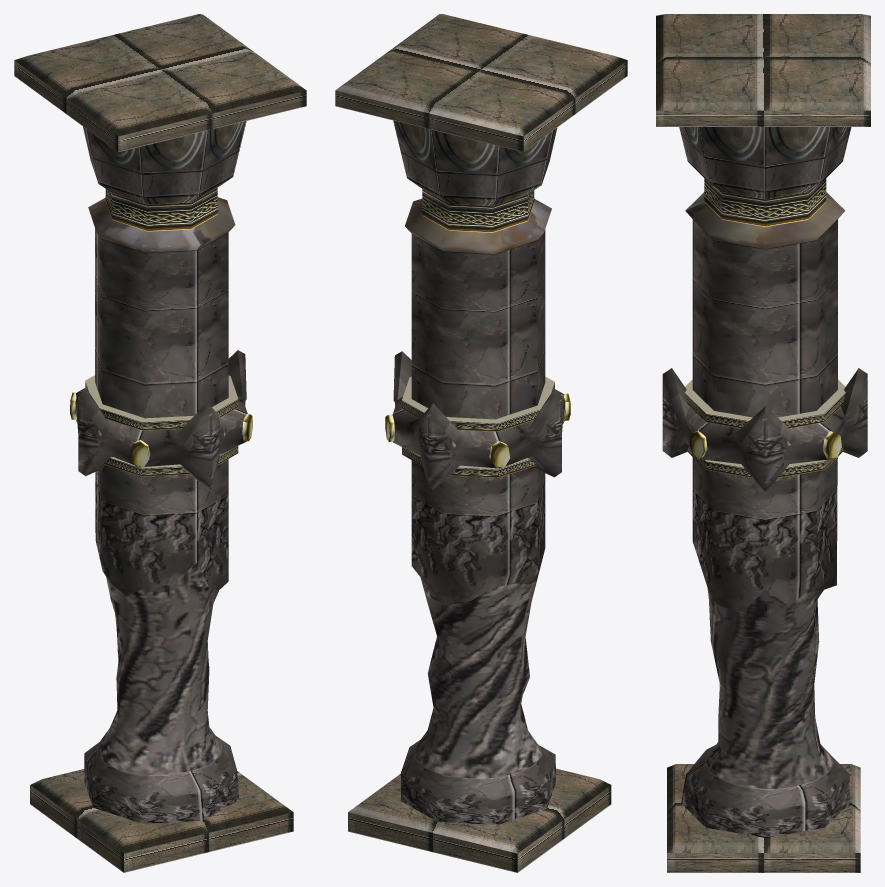
File: INST_SM_COLUMNA.obj
3 renders of one model, left to right at view 1: azimuth 30°, elevation 25°; view 2: azimuth 150°, elevation 25°; view 3: azimuth 270°, elevation 25°, orthographic. The views are drawn at different scales.
Visible parts, largest first — view 1: Box03, Col_mid01, col_cut, Box02, col_break, Col_top, col_base, col_ring, col_mid, col_topring, Col_ringsmall, Object112 (+2 smaller); view 2: Box03, Col_mid01, col_cut, Box02, col_break, Col_top, col_base, col_ring, col_mid, col_topring, Col_ringsmall, Object112 (+2 smaller); view 3: Col_mid01, Box03, col_cut, col_break, Box02, Col_top, col_base, col_ring, col_mid, col_topring, Object112, Col_ringsmall (+2 smaller).
Part boxes in pixels (x1,y1,x2,y2): Box03: (14,14,306,151); Col_mid01: (95,228,228,418); col_cut: (98,563,221,775); Box02: (30,769,293,872); col_break: (95,480,228,595); Col_top: (83,121,246,204); col_base: (84,735,239,823); col_ring: (76,350,247,488); col_mid: (95,459,228,515); col_topring: (88,197,235,252); Col_ringsmall: (105,188,217,231); Object112: (77,395,245,485); Box03: (335,14,627,151); Col_mid01: (411,229,545,419); col_cut: (414,577,541,778); Box02: (348,768,611,872); col_break: (411,480,545,605); Col_top: (393,120,557,205); col_base: (401,739,555,824); col_ring: (392,351,564,489); col_mid: (411,460,545,516); col_topring: (405,198,551,253); Col_ringsmall: (422,189,534,232); Object112: (395,396,563,486); Col_mid01: (692,219,837,417); Box03: (656,14,870,126); col_cut: (706,588,833,789); col_break: (692,490,837,612); Box02: (667,764,860,872); Col_top: (679,127,851,199); col_base: (681,745,849,837); col_ring: (663,368,867,492); col_mid: (692,457,837,519); col_topring: (685,192,845,248); Object112: (662,374,867,489); Col_ringsmall: (704,178,826,227).
Size of the model in its own units: 373 by 1418 by 358.
